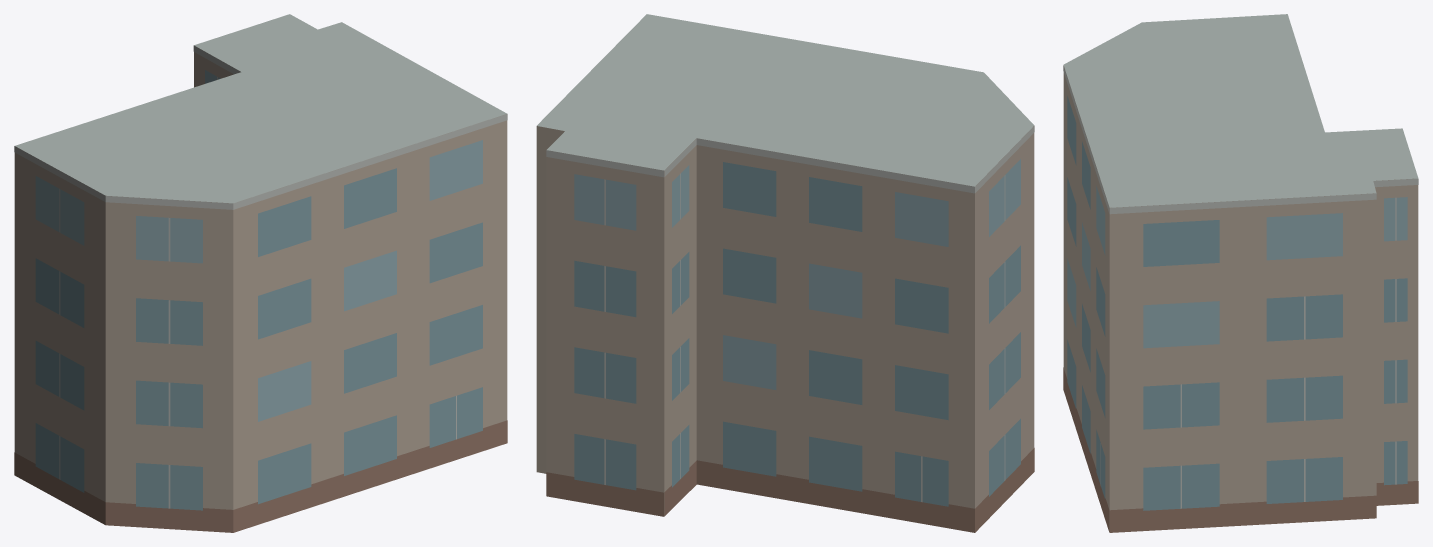
Rendered from survey-upis-33012433.glb.
The picture shows the model from 3 angles, left to right: view 1: azimuth 30°, elevation 25°; view 2: azimuth 150°, elevation 25°; view 3: azimuth 270°, elevation 25°; orthographic projection. The views are drawn at different scales.
Parts seen in each view (by area): view 1: survey-upis-33012433.tmp; view 2: survey-upis-33012433.tmp; view 3: survey-upis-33012433.tmp.
Part boxes in pixels (bbox=[...]): survey-upis-33012433.tmp: bbox=[14, 14, 507, 532]; survey-upis-33012433.tmp: bbox=[536, 14, 1034, 532]; survey-upis-33012433.tmp: bbox=[1063, 14, 1418, 532].
Bounding box in the file's own units: 15.8 × 12.35 × 12.24.
